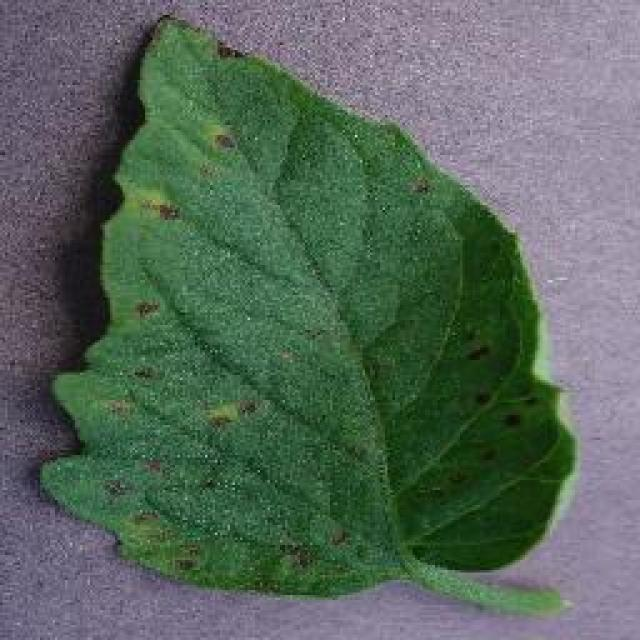Tomato Septoria spot leaf: (39, 15, 582, 597)
